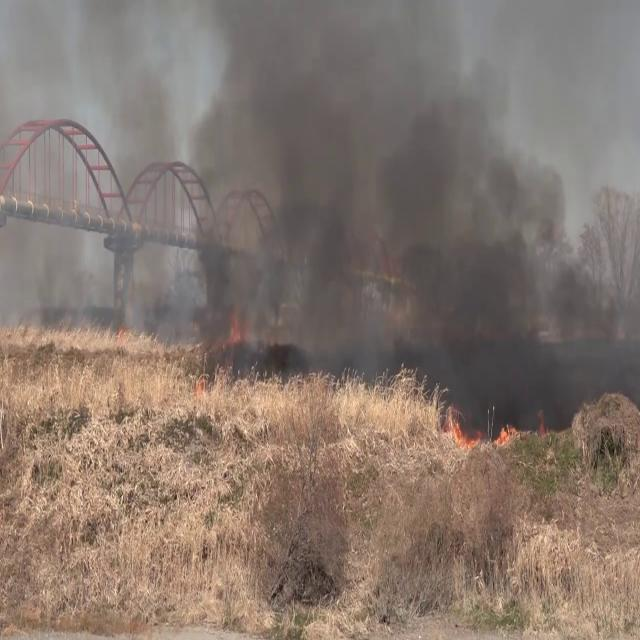Smoke: (212, 0, 634, 466), (5, 0, 214, 348)
